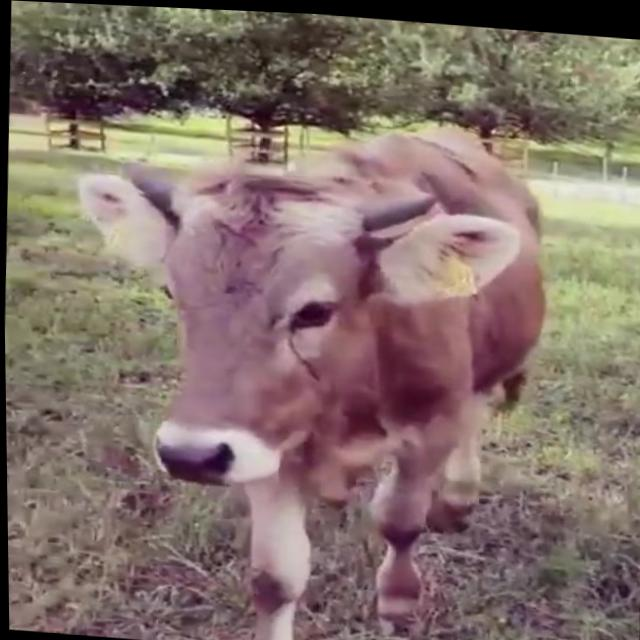cowFace: (61, 117, 522, 515)
